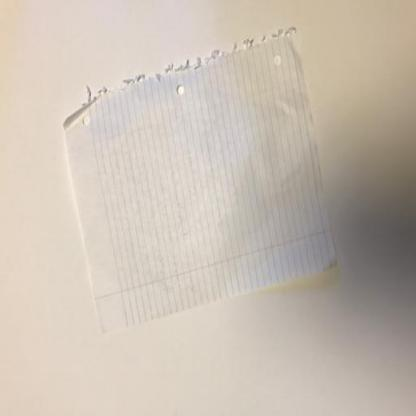trash: (62, 27, 341, 340)
